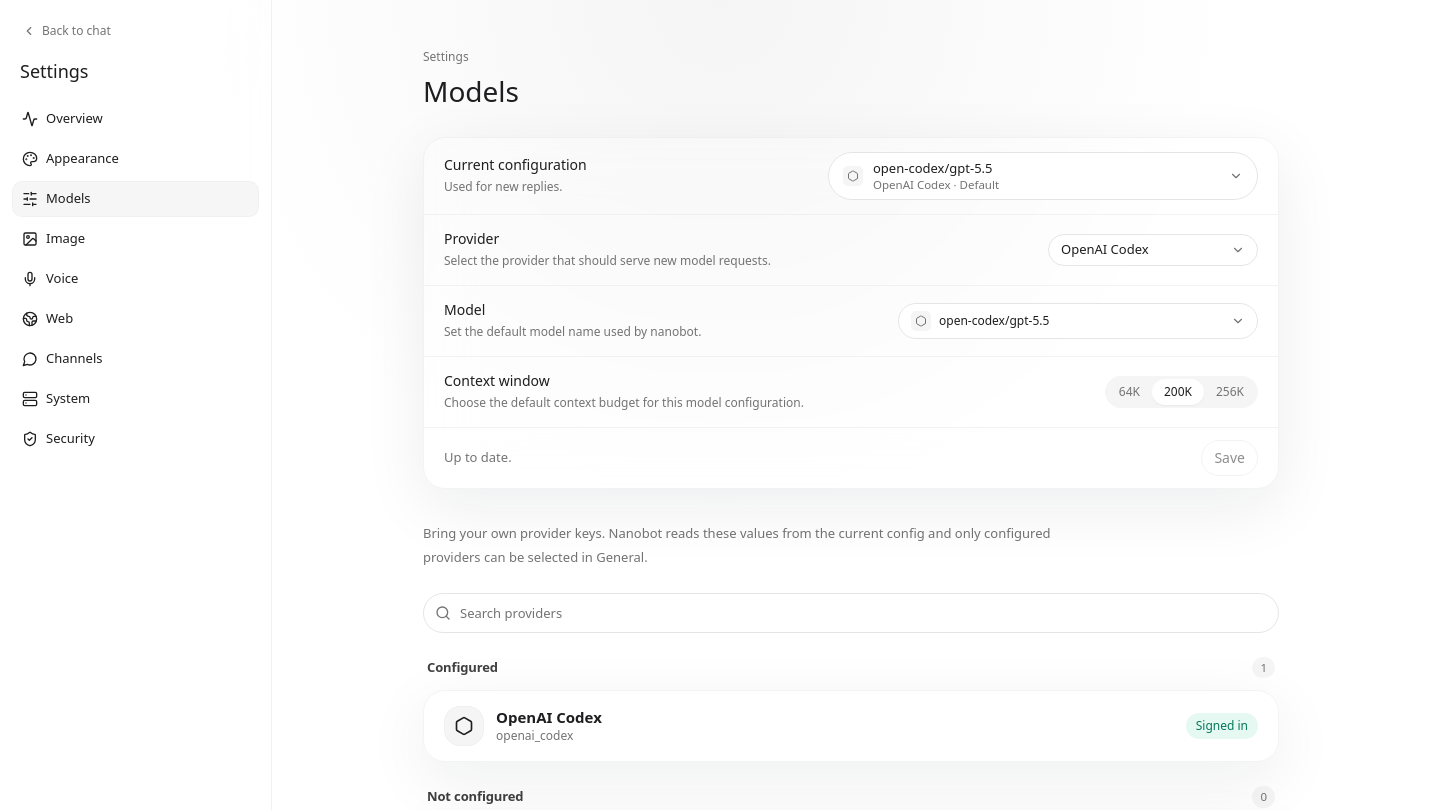
Test: SettingsView Apps catalog › prefills manual model ids for configured OAuth providers
Press the mouse on the button "open-codex/gpt-5.5" at (994,320), box [898,303,1258,339]
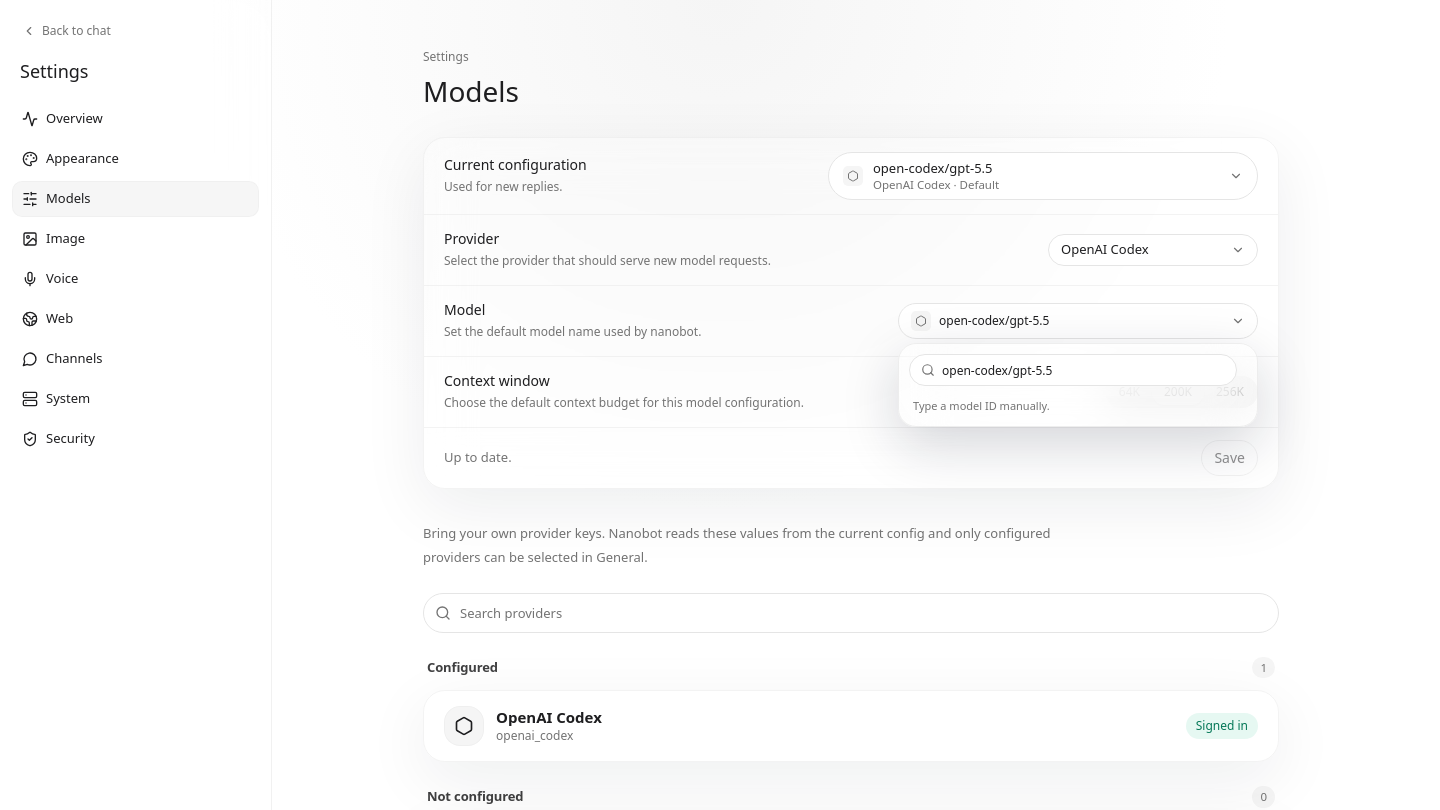
expect the field with placeholder "Search or type model ID" holds "open-codex/gpt-5.5": met
Replace the text in the field with placeholder "Search or type model ID" with "openai-codex/gpt-5.5" at (1073,370), box [909,354,1237,386]
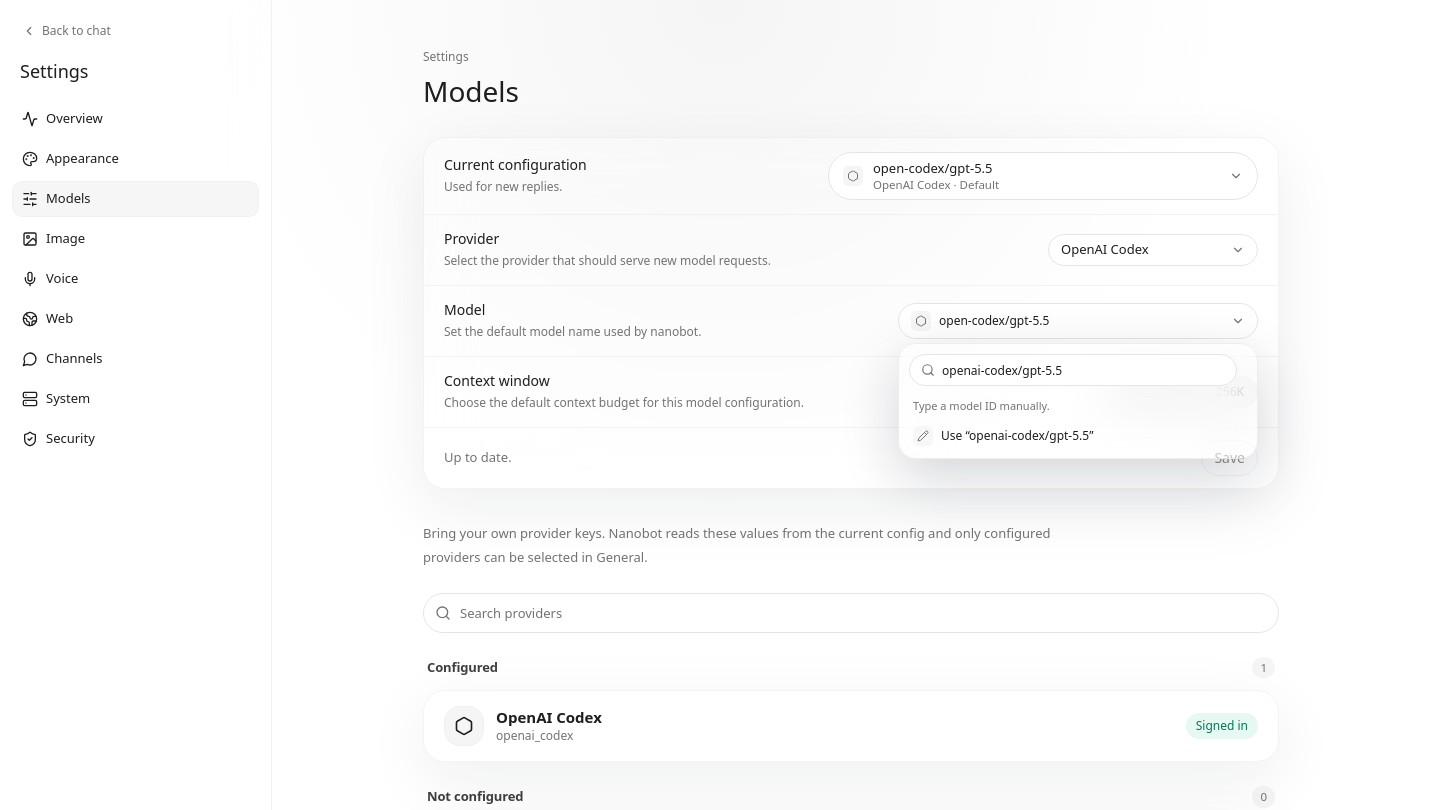
expect the text "“openai-codex/gpt-5.5”" is shown: met, box [965,427,1094,444]
